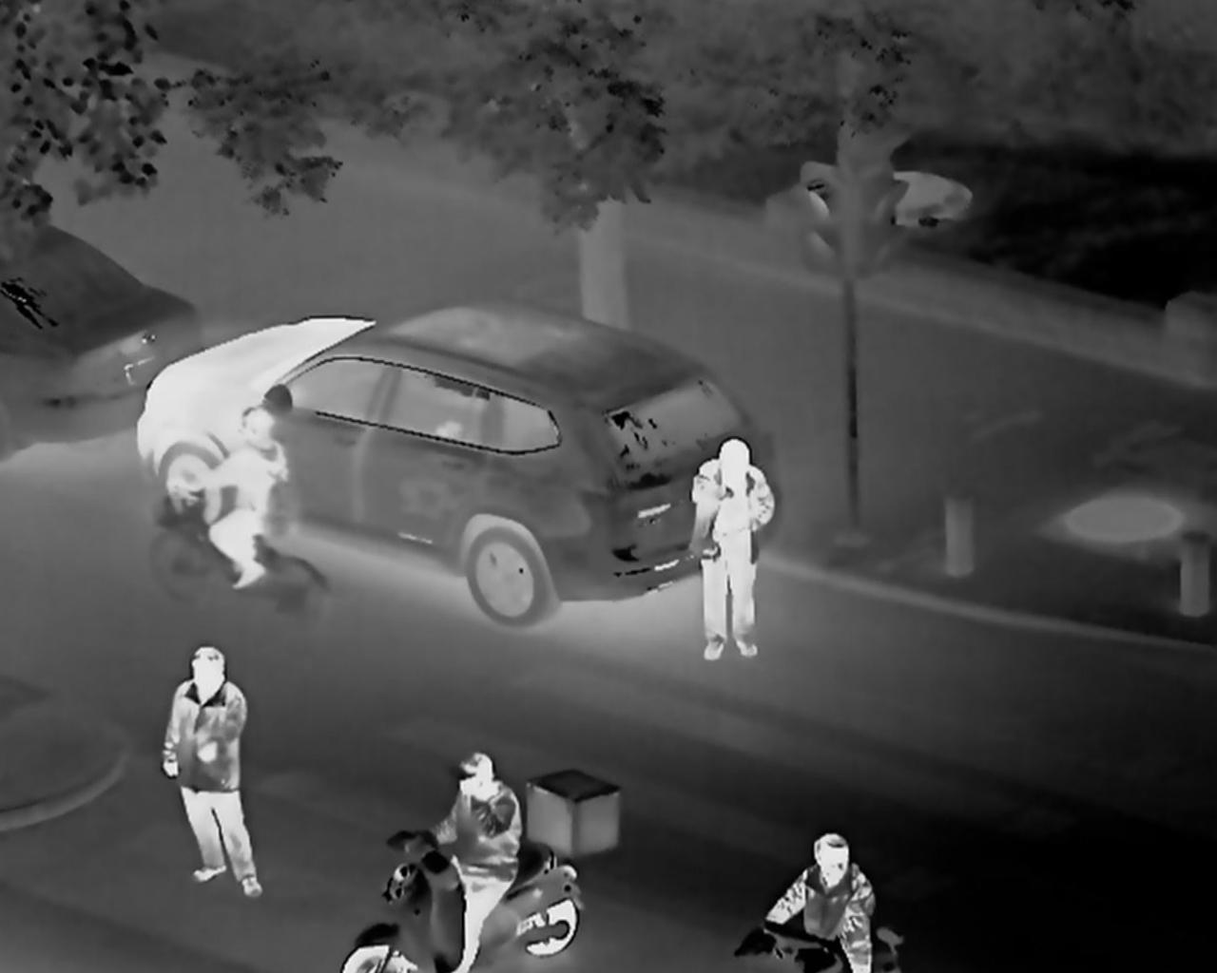person: (662, 422, 787, 683), (173, 639, 291, 896), (427, 755, 526, 973), (764, 827, 909, 973), (199, 407, 302, 579)
